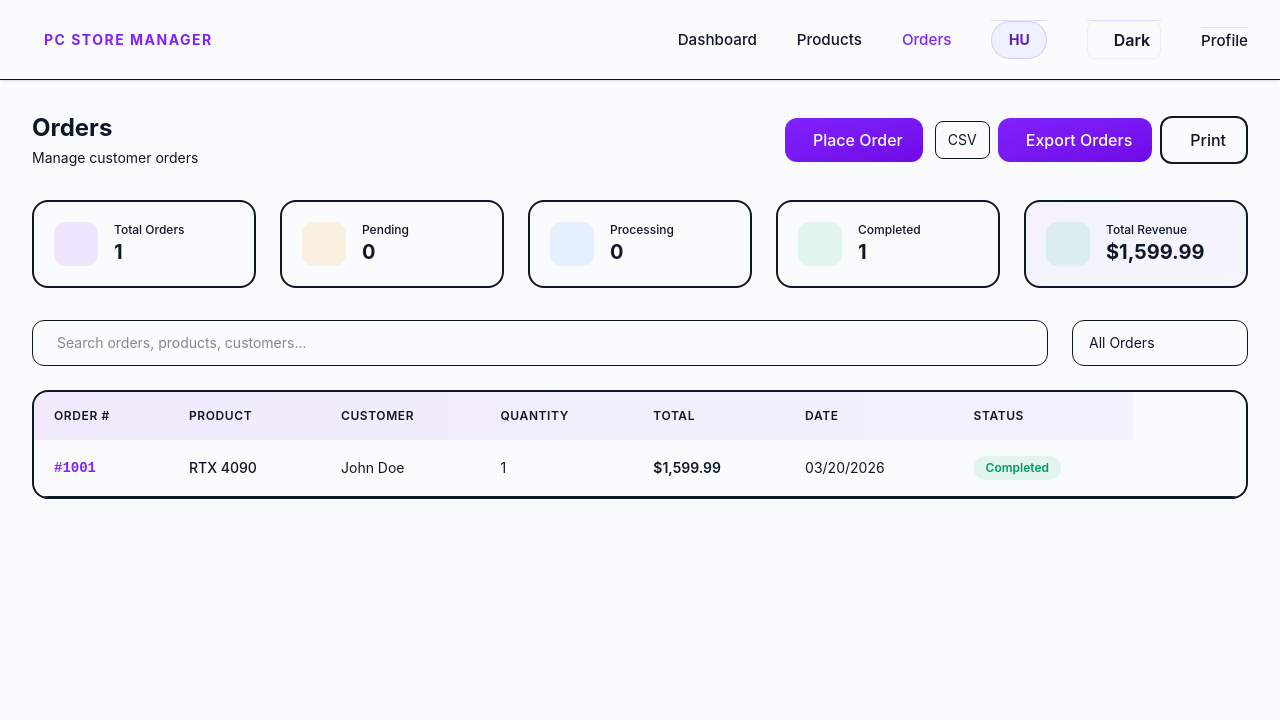
Orders Page (Buyer) › should allow buyer to open the new order form
Click the button "Place Order" at (854, 140), box [785,118,923,162]
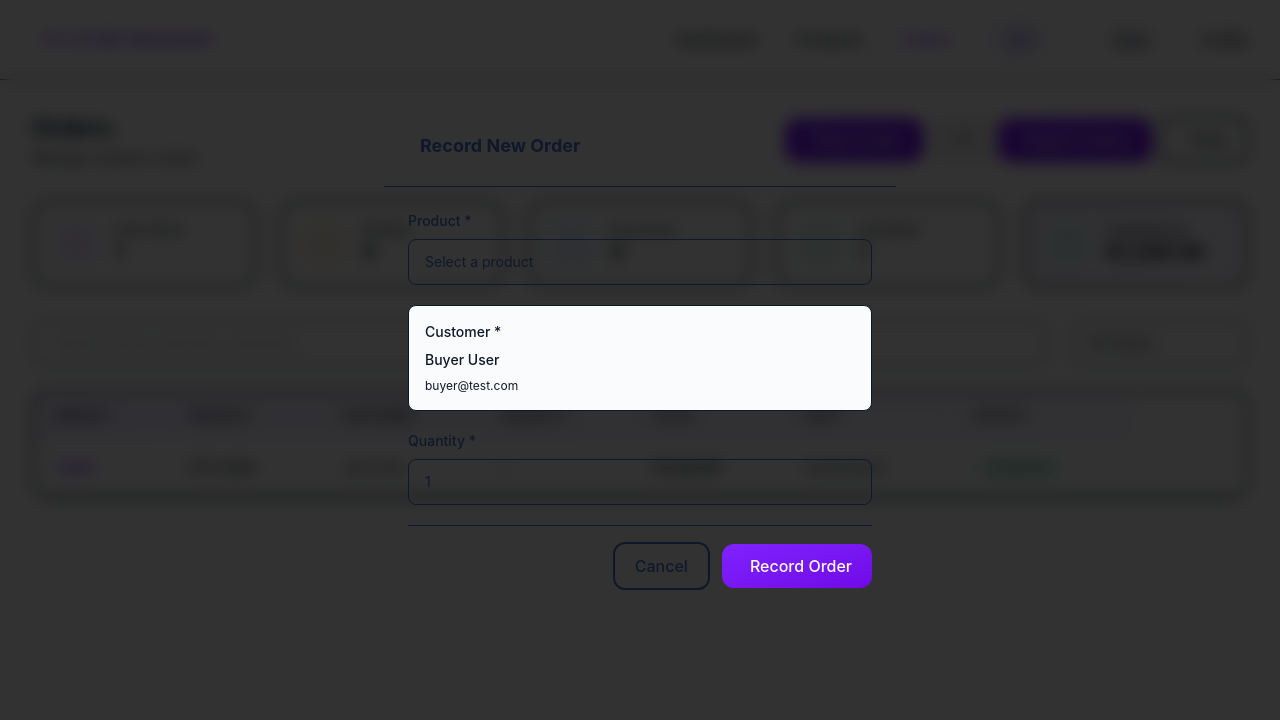
Result: the form is shown at [384,187,896,614]
